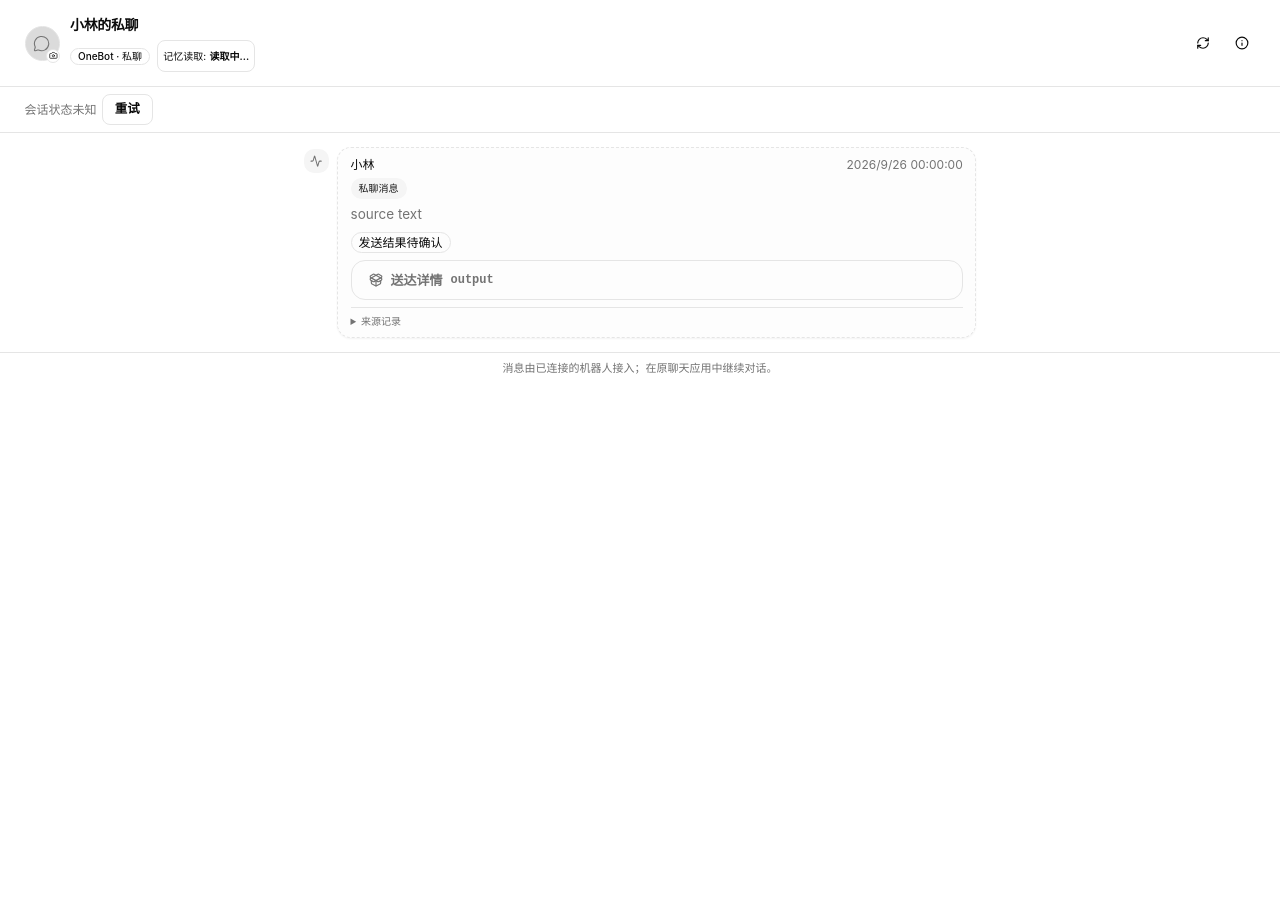
it: unknown text/sticker delivery shows independent receipt facts and offers no resend
Click the button "送达详情 output": coordinates (431, 280) x1=352 y1=261 x2=511 y2=299
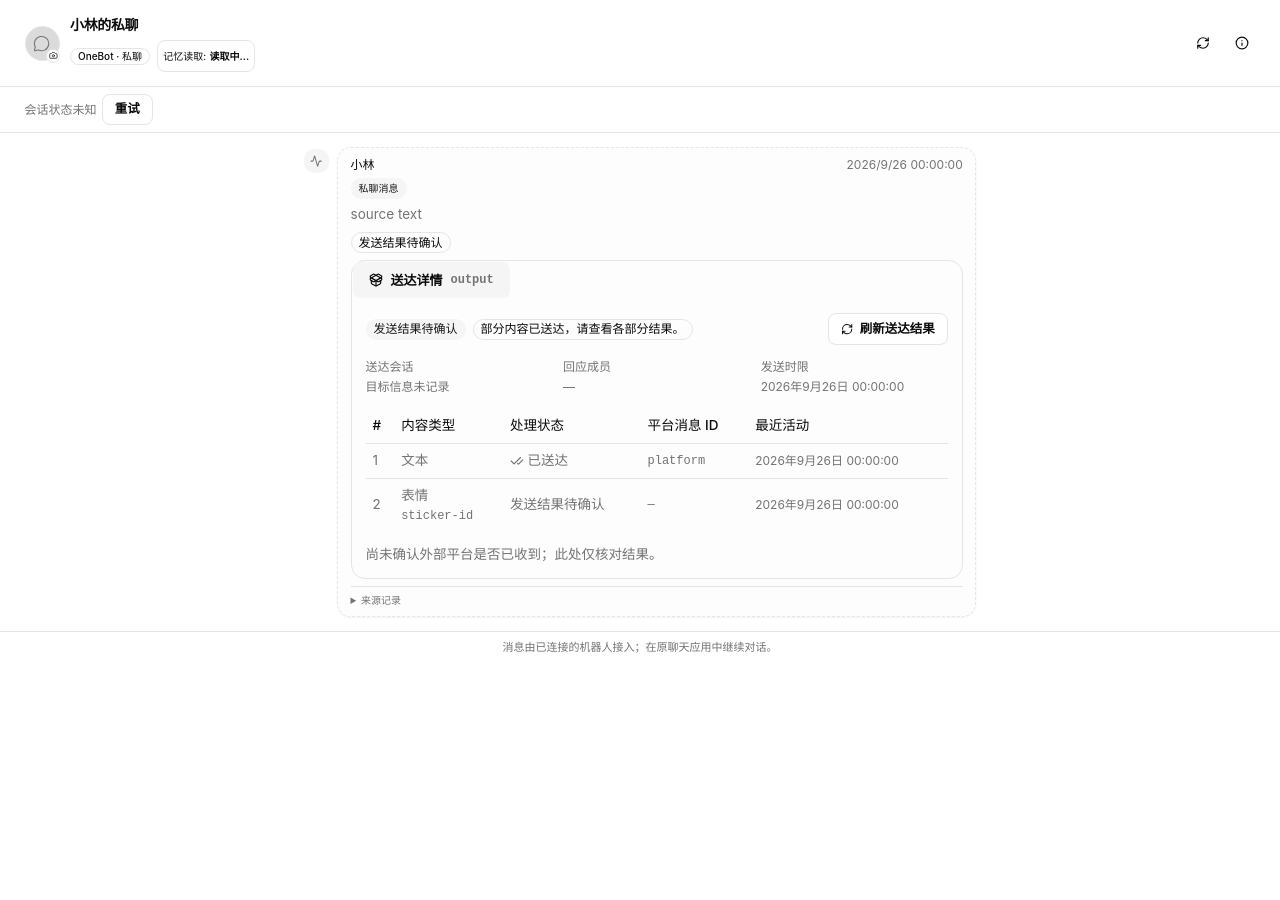
Expected: the list item "platform" shows "已送达", x1=528 y1=452 x2=568 y2=468
Expected: the text "platform" is shown, x1=640 y1=444 x2=748 y2=478
Expected: the text "sticker-id" is shown, x1=401 y1=509 x2=473 y2=523
